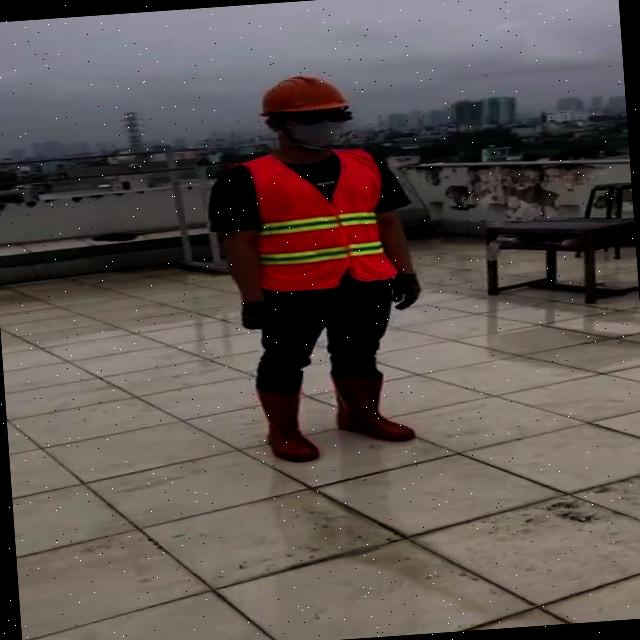boots: (327, 366, 414, 448), (246, 375, 322, 466)
